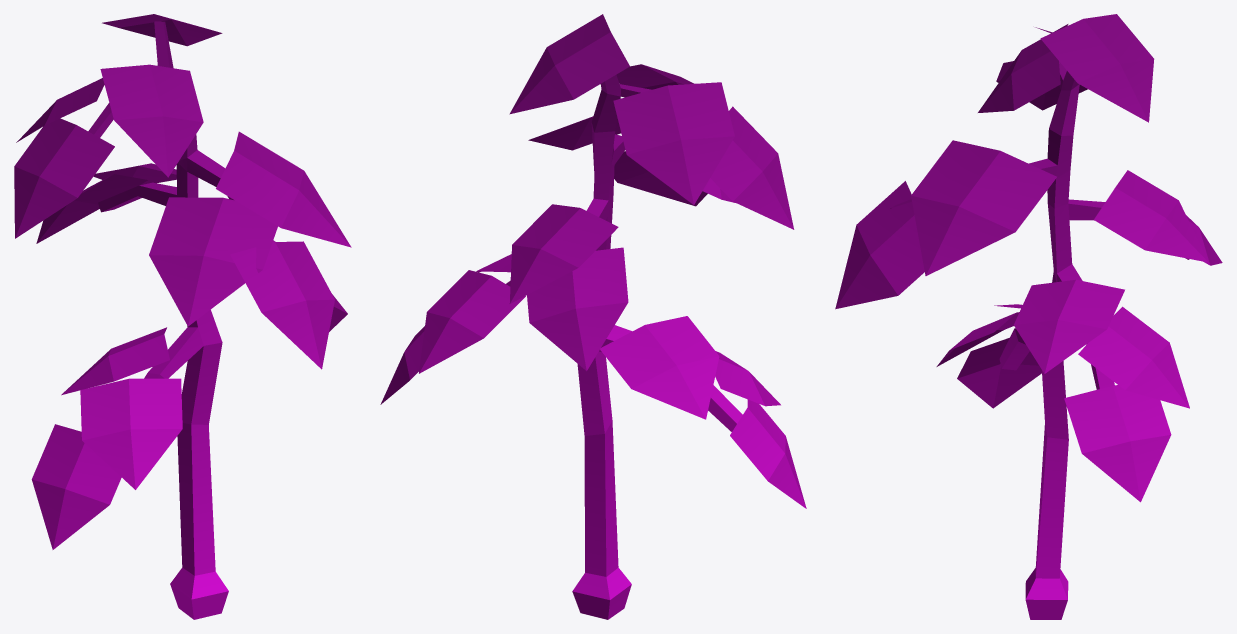
File: SM_Prop_Plant_Bush_02_L.fbx
The picture shows the model from 3 angles, left to right: view 1: azimuth 30°, elevation 25°; view 2: azimuth 150°, elevation 25°; view 3: azimuth 270°, elevation 25°; orthographic projection. The views are drawn at different scales.
Parts seen in each view (by area): view 1: SM_Prop_Plant_Bush_02_L; view 2: SM_Prop_Plant_Bush_02_L; view 3: SM_Prop_Plant_Bush_02_L.
Part boxes in pixels (<box>): SM_Prop_Plant_Bush_02_L: <box>14,14,351,619</box>; SM_Prop_Plant_Bush_02_L: <box>380,14,806,619</box>; SM_Prop_Plant_Bush_02_L: <box>835,14,1222,619</box>.
Size of the model in its own units: 62.71 by 98.88 by 59.72.
